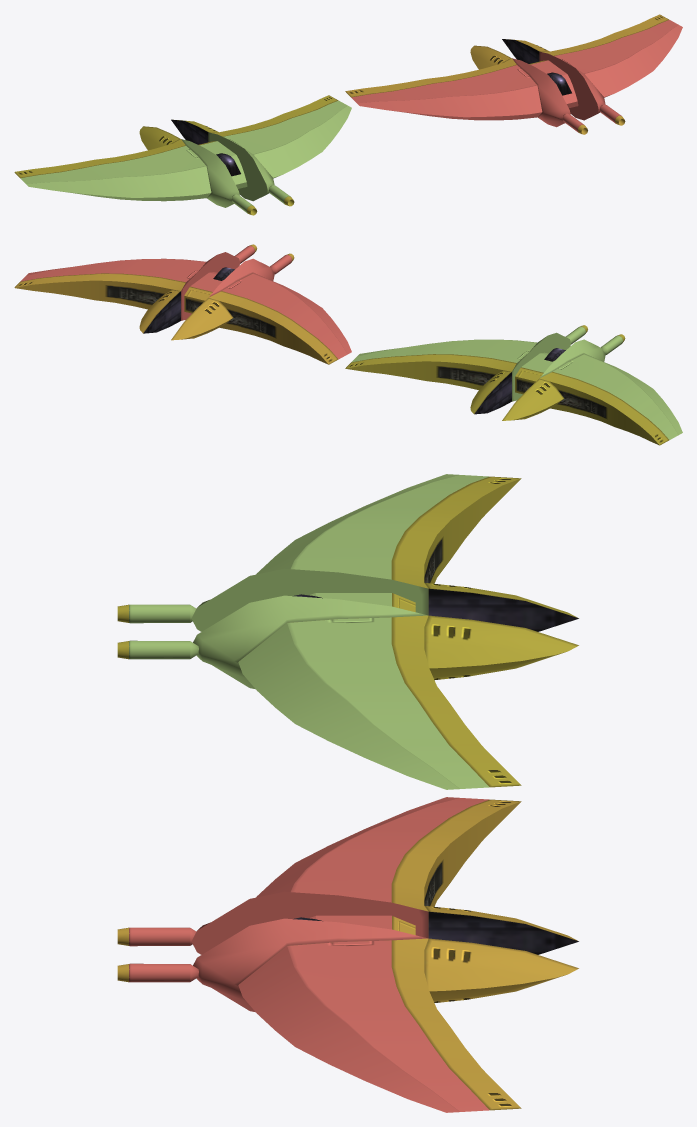
Rendered from M02_ZAKO-01_O_Type.fbx.
3 renders of one model, top to bottom at view 1: azimuth 30°, elevation 25°; view 2: azimuth 150°, elevation 25°; view 3: azimuth 270°, elevation 25°, orthographic. The views are drawn at different scales.
Visible parts, largest first — view 1: body (×2); view 2: body (×2); view 3: body (×2).
Part boxes in pixels (bbox=[...]): body (×2): bbox=[14, 14, 682, 215]; body (×2): bbox=[14, 244, 682, 445]; body (×2): bbox=[117, 474, 578, 1112].
Bounding box in the file's own units: 15.95 × 1.16 × 4.88.
